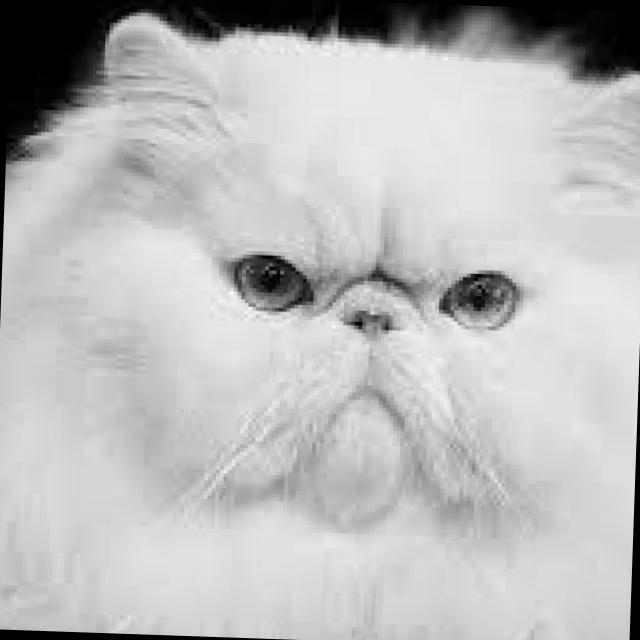iran: (134, 160, 640, 524)
